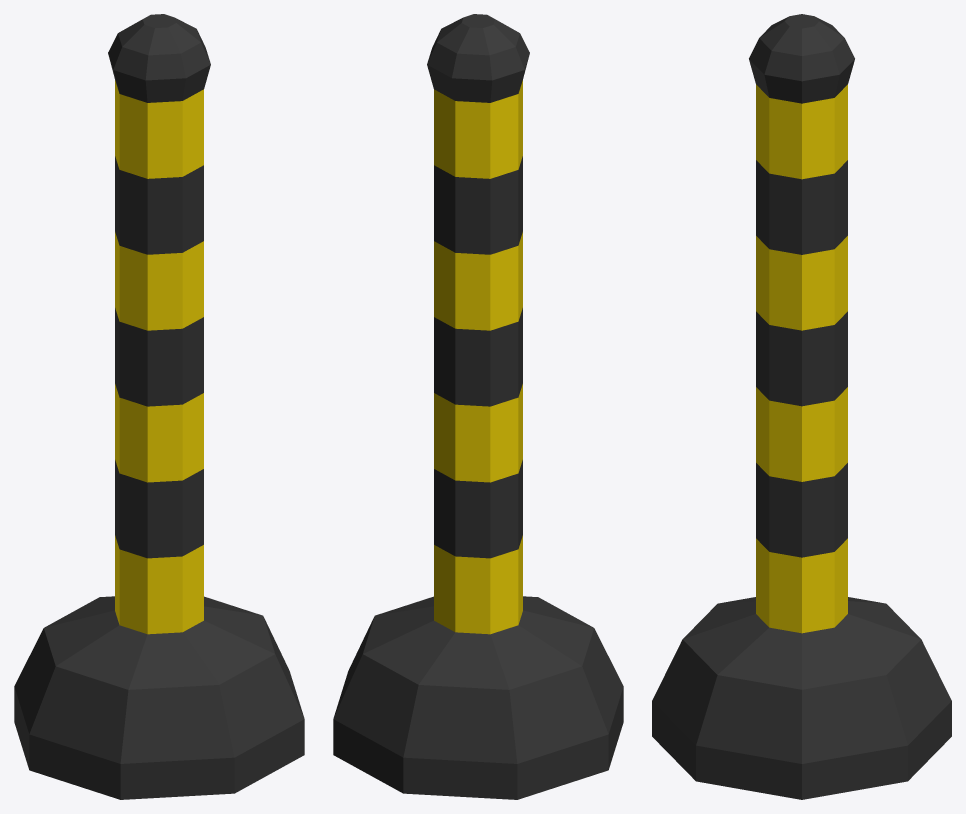
File: Strip_Pole.fbx
3 views of the same model, side by side, from view 1: azimuth 30°, elevation 25°; view 2: azimuth 150°, elevation 25°; view 3: azimuth 270°, elevation 25° (orthographic).
Parts seen in each view (by area): view 1: Strip_Pole_1; view 2: Strip_Pole_1; view 3: Strip_Pole_1.
Part boxes in pixels (<box>): Strip_Pole_1: <box>14,14,304,799</box>; Strip_Pole_1: <box>333,14,623,799</box>; Strip_Pole_1: <box>652,14,951,799</box>.
Size of the model in its own units: 67.59 by 178 by 67.59.
